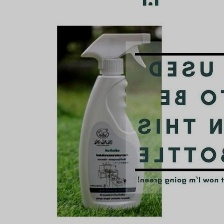cleaning_solution: (76, 30, 153, 212)
